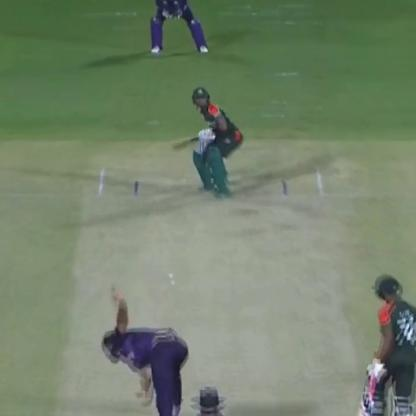ball: (167, 278, 185, 292), (163, 269, 175, 280)
bat: (159, 136, 214, 154)
pitch: (44, 159, 369, 416)
